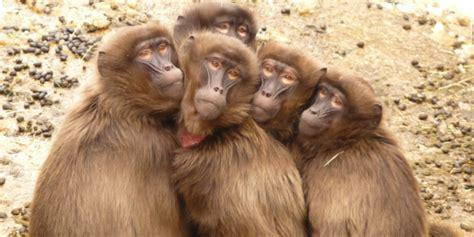monkey: (30, 24, 183, 237), (179, 31, 306, 237), (299, 70, 455, 237), (253, 42, 326, 137), (174, 5, 255, 49)
